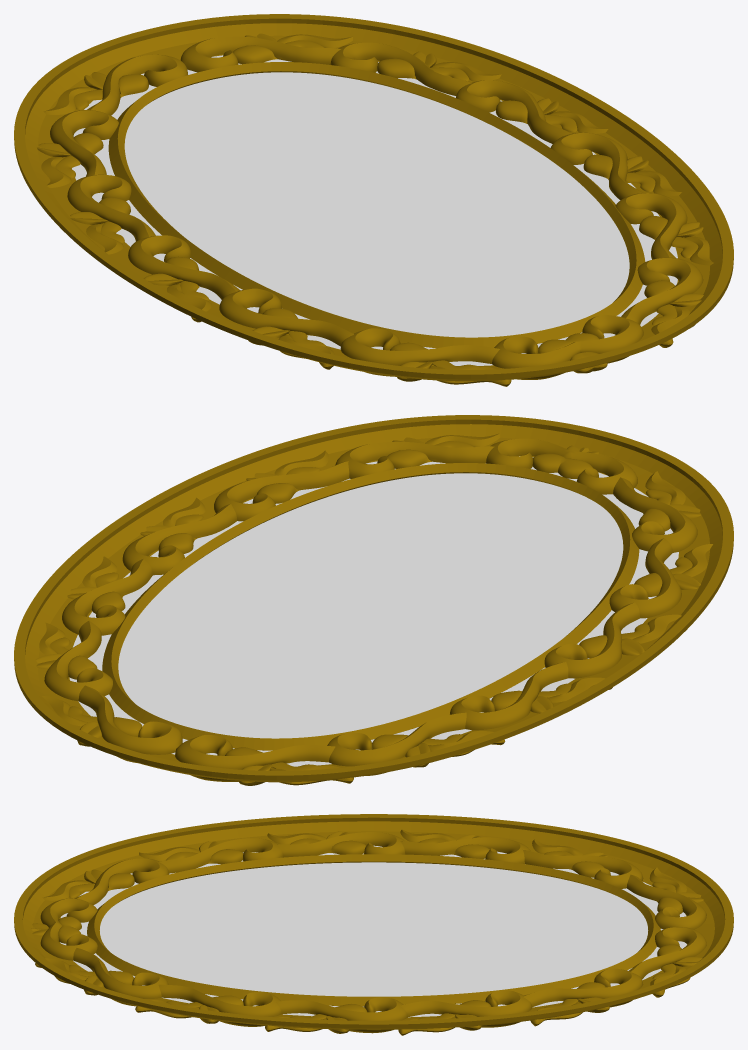
The model's file is mirror_baroque.fbx.
The picture shows the model from 3 angles, top to bottom: view 1: azimuth 30°, elevation 25°; view 2: azimuth 150°, elevation 25°; view 3: azimuth 270°, elevation 25°; orthographic projection. The views are drawn at different scales.
Parts seen in each view (by area): view 1: mirrr, Plane.001, BezierCircle.001, BezierCircle.002; view 2: mirrr, Plane.001, BezierCircle.001, BezierCircle.002; view 3: mirrr, Plane.001, BezierCircle.001, BezierCircle.002.
Part boxes in pixels (x1,y1,x2,y2): mirrr: (72, 55, 677, 365); Plane.001: (37, 33, 713, 386); BezierCircle.001: (14, 14, 733, 381); BezierCircle.002: (108, 62, 645, 348); mirrr: (69, 456, 678, 766); Plane.001: (35, 433, 712, 785); BezierCircle.001: (14, 415, 733, 782); BezierCircle.002: (102, 463, 639, 750); mirrr: (60, 845, 686, 1017); Plane.001: (31, 829, 706, 1035); BezierCircle.001: (14, 814, 733, 1029); BezierCircle.002: (87, 854, 660, 1006).
Size of the model in its own units: 51.07 by 2.55 by 73.83.
